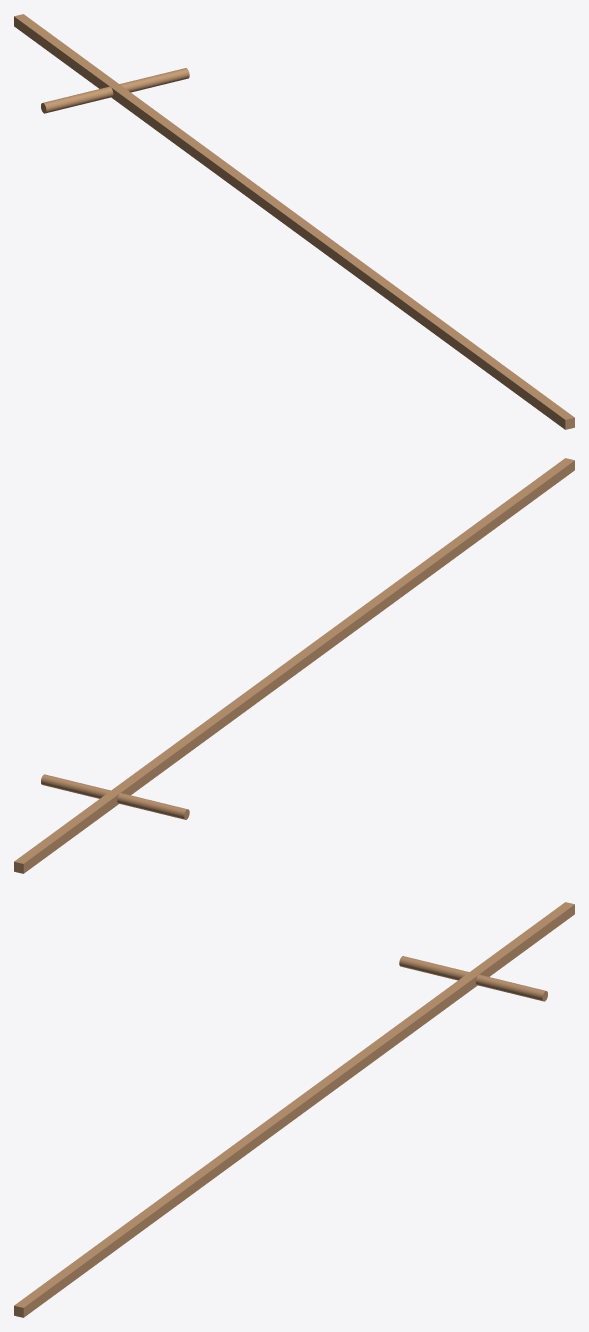
The model's file is FishingRodPivoted.fbx.
3 views of the same model, one above another, from view 1: azimuth 30°, elevation 25°; view 2: azimuth 150°, elevation 25°; view 3: azimuth 330°, elevation 25° (orthographic).
Parts seen in each view (by area): view 1: Rod; view 2: Rod; view 3: Rod.
Part boxes in pixels (x1,y1,x2,y2): Rod: [14, 14, 574, 429]; Rod: [14, 458, 574, 873]; Rod: [14, 902, 574, 1317].
Bounding box in the file's own units: 75 × 5 × 500.
